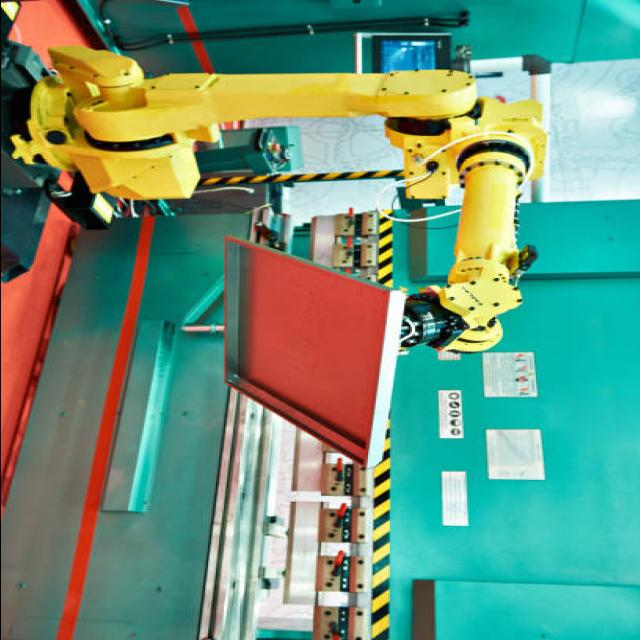Robotic-arm: (15, 46, 554, 356)
